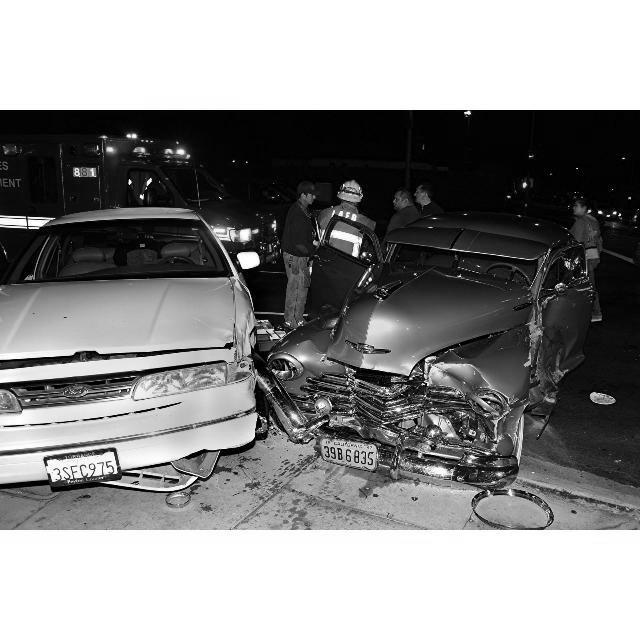bonnet-dent: (1, 271, 238, 365)
front-bumper-dent: (294, 345, 524, 454), (13, 361, 229, 475)
